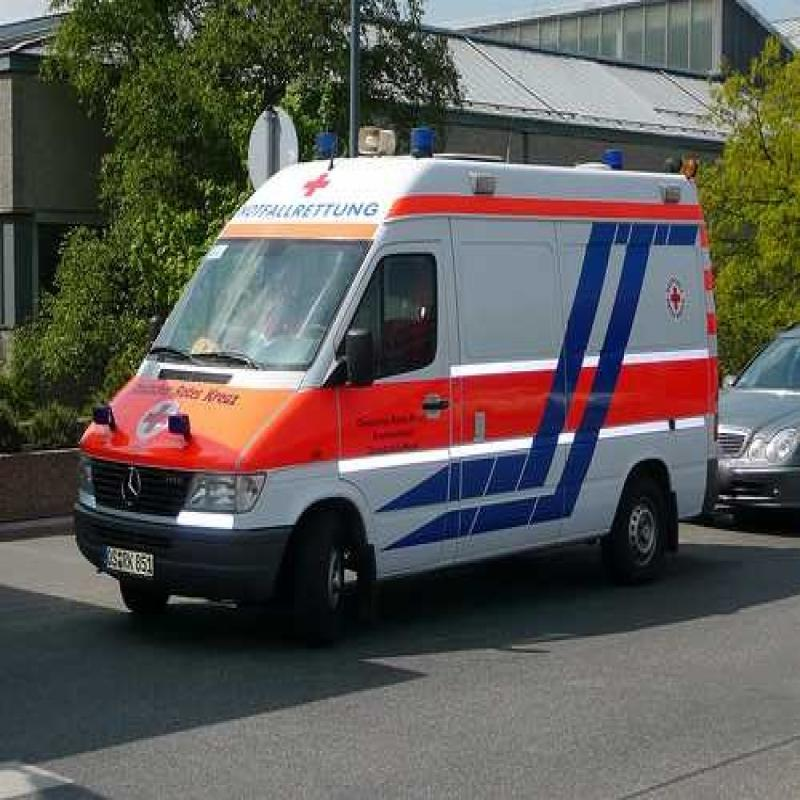AmbulanceSiren: (596, 140, 640, 176), (408, 123, 439, 169)
